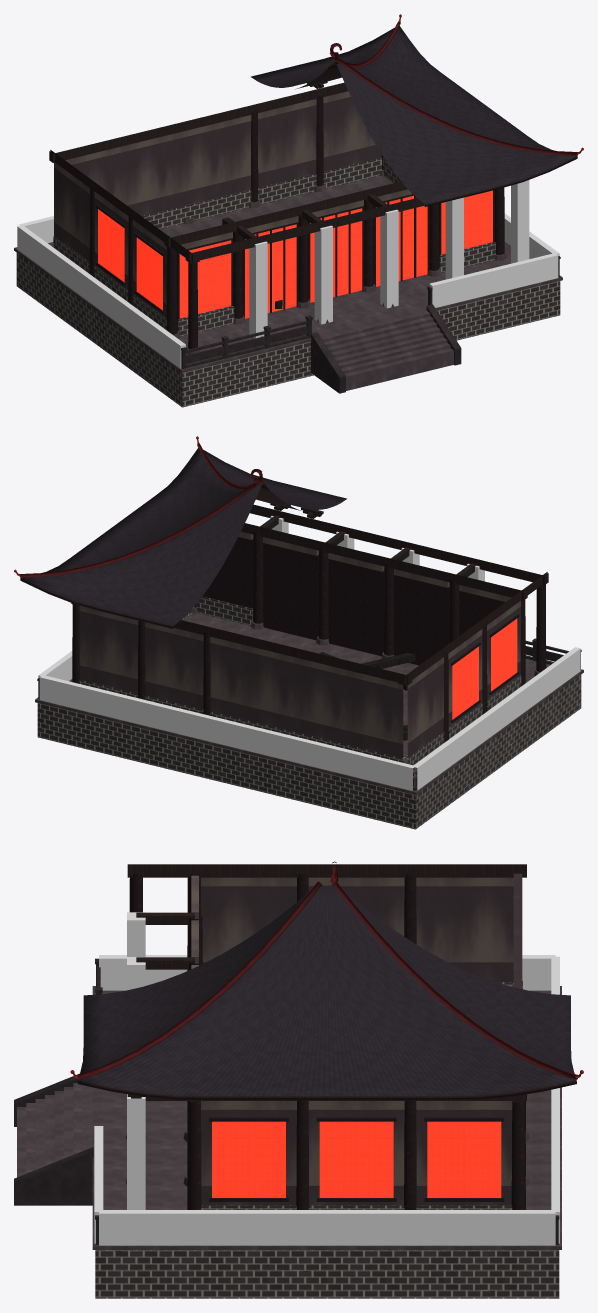
The model's file is ruined_hall.glb.
3 renders of one model, top to bottom at view 1: azimuth 30°, elevation 25°; view 2: azimuth 150°, elevation 25°; view 3: azimuth 270°, elevation 25°, orthographic. The views are drawn at different scales.
Visible parts, largest first — view 1: BurnedWalls, BurnedRoof, BurnedLattice, BurnedPodiumBase, BurnedPodiumCap, BurnedBeams, BurnedColumns, BurnedDado, BurnedStairsfront, BurnedRail-convcolonly.004, BurnedFrames, BurnedRail-convcolonly.001 (+11 smaller); view 2: BurnedWalls, BurnedRoof, BurnedPodiumBase, BurnedFrames, BurnedRail-convcolonly.003, BurnedBeams, BurnedColumns, BurnedPodiumCap, BurnedRail-convcolonly.004, BurnedDado, BurnedLattice, BurnedRoofRidges (+3 smaller); view 3: BurnedRoof, BurnedWalls, BurnedPodiumBase, BurnedLattice, BurnedRail-convcolonly.002, BurnedPodiumCap, BurnedColumns, BurnedBeams, BurnedStairsfront, BurnedCheeksfront, BurnedRoofRidges, BurnedRail-convcolonly.004 (+7 smaller).
Boxes of the visible parts, box(x1,y1,x2,y2) form: BurnedWalls: box(54, 91, 411, 318); BurnedRoof: box(251, 26, 577, 206); BurnedLattice: box(98, 190, 492, 318); BurnedPodiumBase: box(16, 253, 560, 407); BurnedPodiumCap: box(14, 175, 562, 372); BurnedBeams: box(49, 82, 424, 263); BurnedColumns: box(89, 95, 504, 349); BurnedDado: box(53, 158, 495, 336); BurnedStairsfront: box(320, 311, 453, 390); BurnedRail-convcolonly.004: box(17, 226, 185, 368); BurnedFrames: box(86, 190, 494, 319); BurnedRail-convcolonly.001: box(429, 253, 558, 307); BurnedWalls: box(79, 531, 520, 758); BurnedRoof: box(20, 448, 346, 628); BurnedPodiumBase: box(37, 675, 581, 829); BurnedFrames: box(202, 537, 519, 722); BurnedRail-convcolonly.003: box(39, 675, 415, 790); BurnedBeams: box(71, 504, 548, 685); BurnedColumns: box(72, 532, 546, 742); BurnedPodiumCap: box(35, 613, 583, 794); BurnedRail-convcolonly.004: box(412, 647, 580, 790); BurnedDado: box(79, 596, 521, 771); BurnedLattice: box(452, 618, 517, 719); BurnedRoofRidges: box(20, 444, 263, 577); BurnedRoof: box(77, 885, 576, 1099); BurnedWalls: box(191, 873, 522, 1205); BurnedPodiumBase: box(95, 1250, 559, 1298); BurnedLattice: box(212, 1121, 501, 1197); BurnedRail-convcolonly.002: box(99, 1210, 555, 1245); BurnedPodiumCap: box(92, 986, 561, 1249); BurnedColumns: box(129, 874, 525, 1209); BurnedBeams: box(127, 864, 526, 1102); BurnedStairsfront: box(17, 1083, 92, 1177); BurnedCheeksfront: box(14, 1073, 93, 1205); BurnedRoofRidges: box(76, 861, 577, 1079); BurnedRail-convcolonly.004: box(99, 955, 555, 990).
Size of what is drawn, in the model's own units: 21.73 by 12.8 by 19.41.
Materials: 12 (12 with a texture image).
